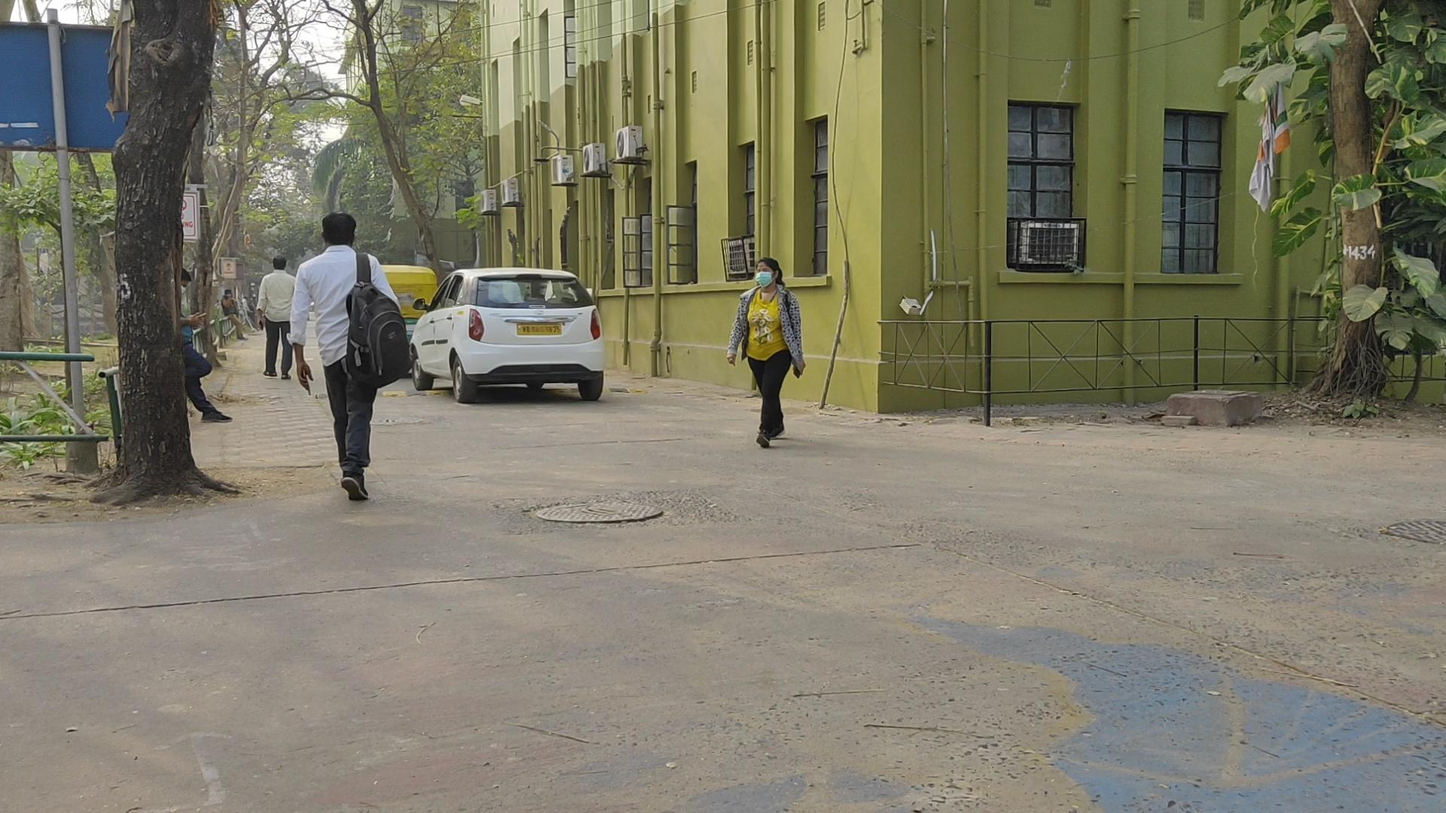Auto: (366, 263, 436, 370)
car: (407, 269, 604, 403)
